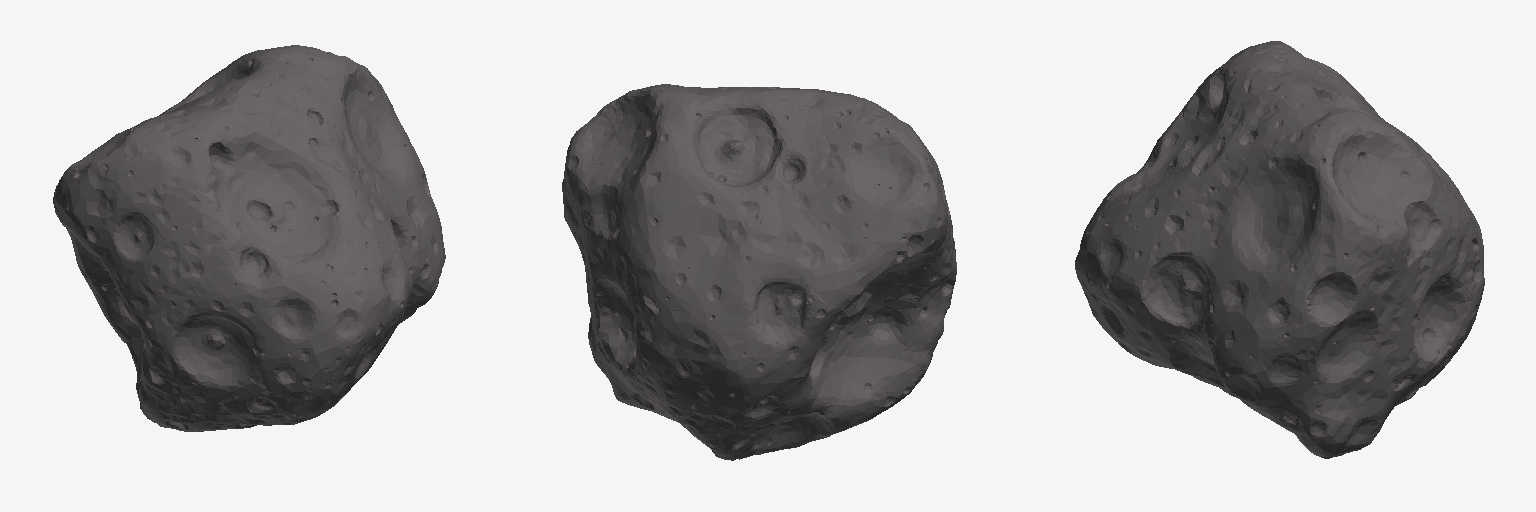
Rendered from Asteroid.obj.
3 renders of one model, left to right at view 1: azimuth 30°, elevation 25°; view 2: azimuth 150°, elevation 25°; view 3: azimuth 270°, elevation 25°, orthographic.
Visible parts, largest first — view 1: Asteroid; view 2: Asteroid; view 3: Asteroid.
Part boxes in pixels (left/top/right/bottom): Asteroid: left=53, top=45, right=445, bottom=431; Asteroid: left=562, top=84, right=956, bottom=460; Asteroid: left=1075, top=41, right=1484, bottom=458.
Bounding box in the file's own units: 5.28 × 4.74 × 5.18.